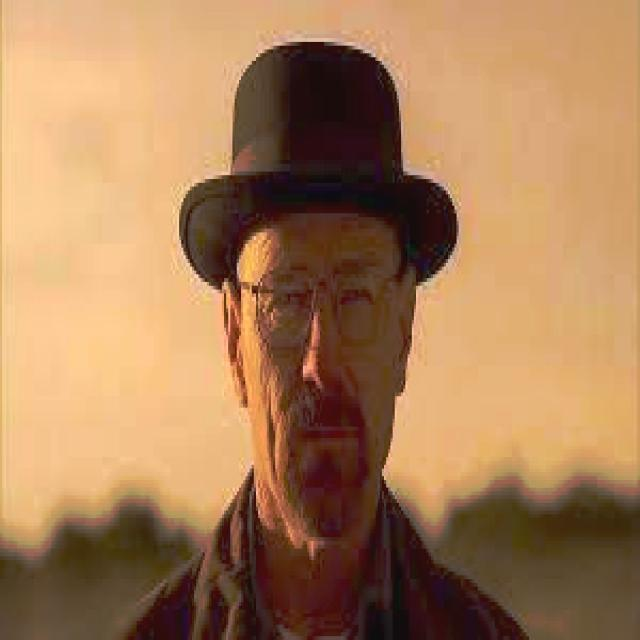TOPI: (175, 31, 459, 290)
